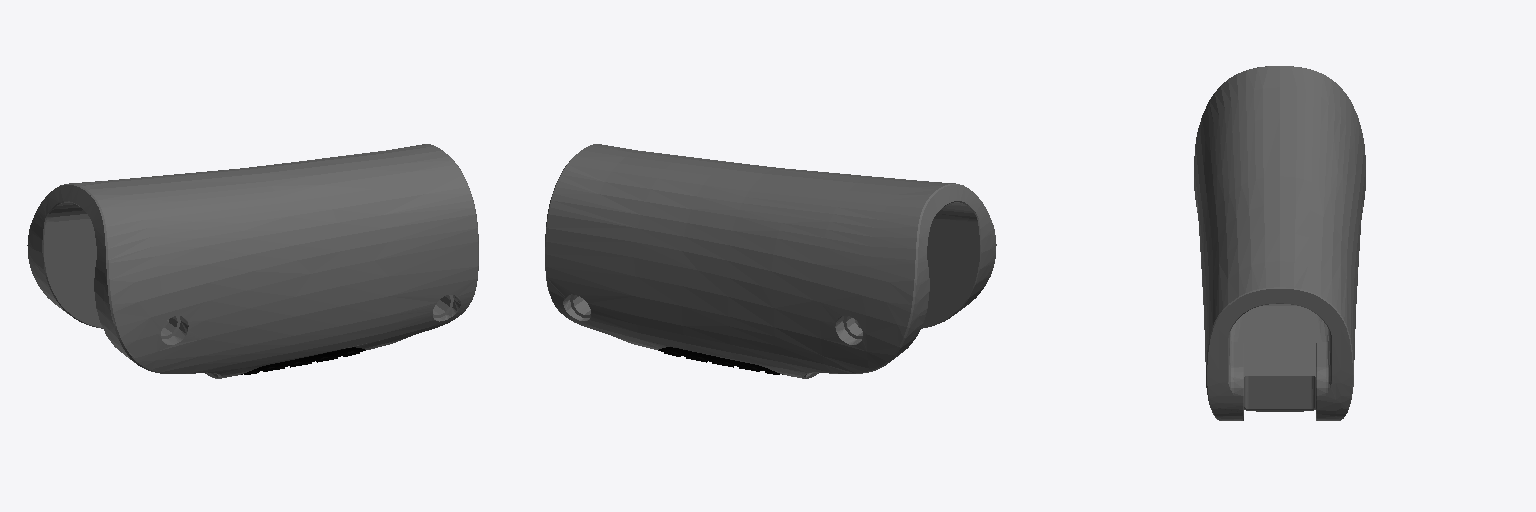
The model's file is R_middle_proximal_link.obj.
3 views of the same model, side by side, from view 1: azimuth 30°, elevation 25°; view 2: azimuth 150°, elevation 25°; view 3: azimuth 270°, elevation 25° (orthographic).
Visible parts, largest first — view 1: R_middle_proximal_link; view 2: R_middle_proximal_link; view 3: R_middle_proximal_link.
Part boxes in pixels (bbox=[...]): R_middle_proximal_link: bbox=[27, 144, 478, 378]; R_middle_proximal_link: bbox=[545, 144, 996, 378]; R_middle_proximal_link: bbox=[1194, 66, 1365, 420].
Bounding box in the file's own units: 0.0425 × 0.0233 × 0.0169.